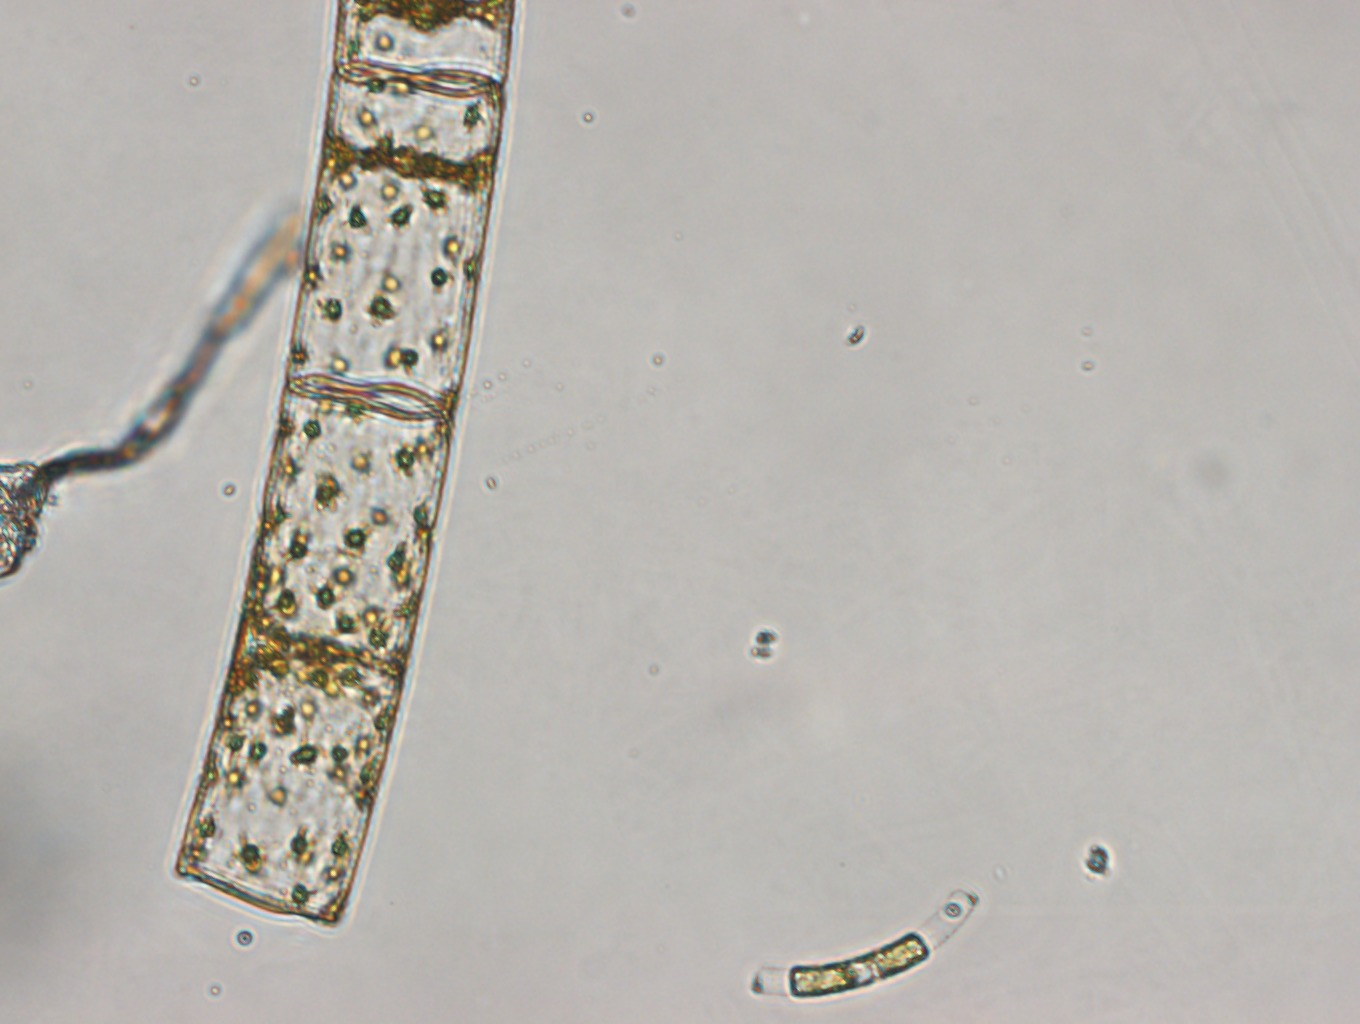guinardia flaccida: (174, 1, 516, 926)
